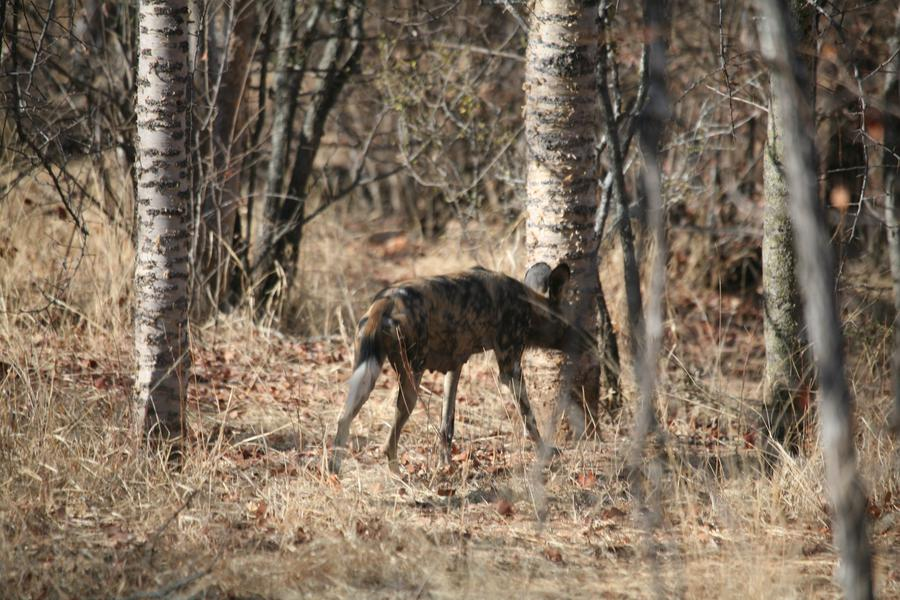wilddog: (357, 251, 589, 451)
